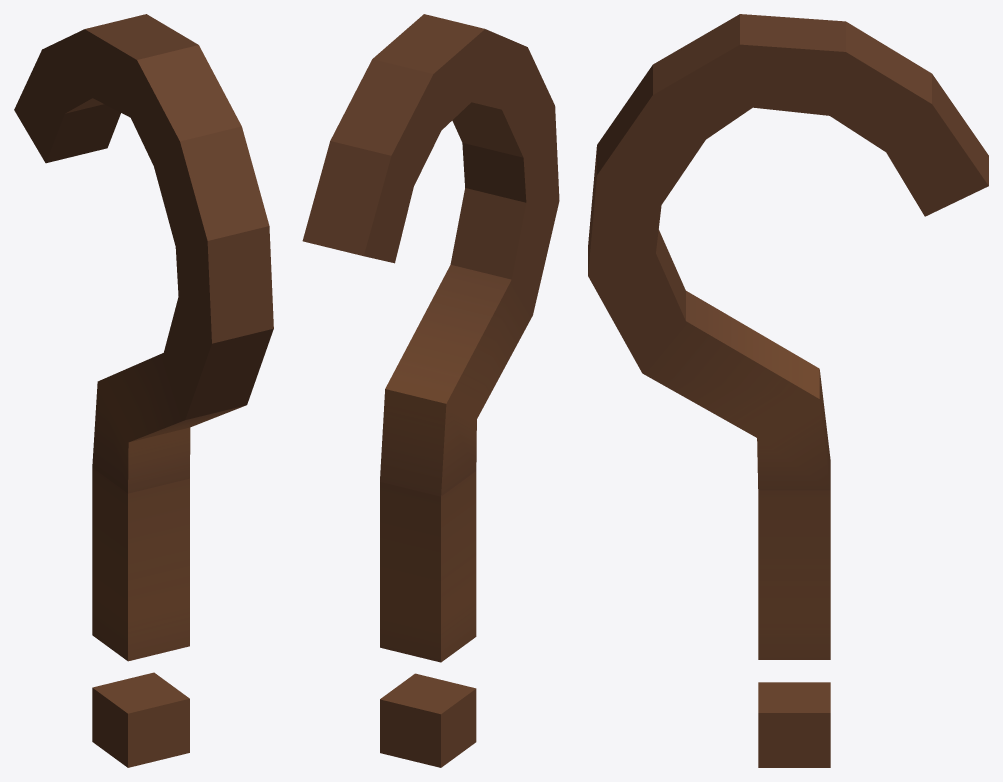
File: Question.fbx
The picture shows the model from 3 angles, left to right: view 1: azimuth 30°, elevation 25°; view 2: azimuth 150°, elevation 25°; view 3: azimuth 270°, elevation 25°; orthographic projection. The views are drawn at different scales.
Visible parts, largest first — view 1: Question; view 2: Question; view 3: Question.
Part boxes in pixels (x1,y1,x2,y2): Question: (14, 14, 273, 767); Question: (302, 14, 559, 767); Question: (588, 14, 988, 767).
Size of the model in its own units: 0.0457 by 0.253 by 0.5039.
